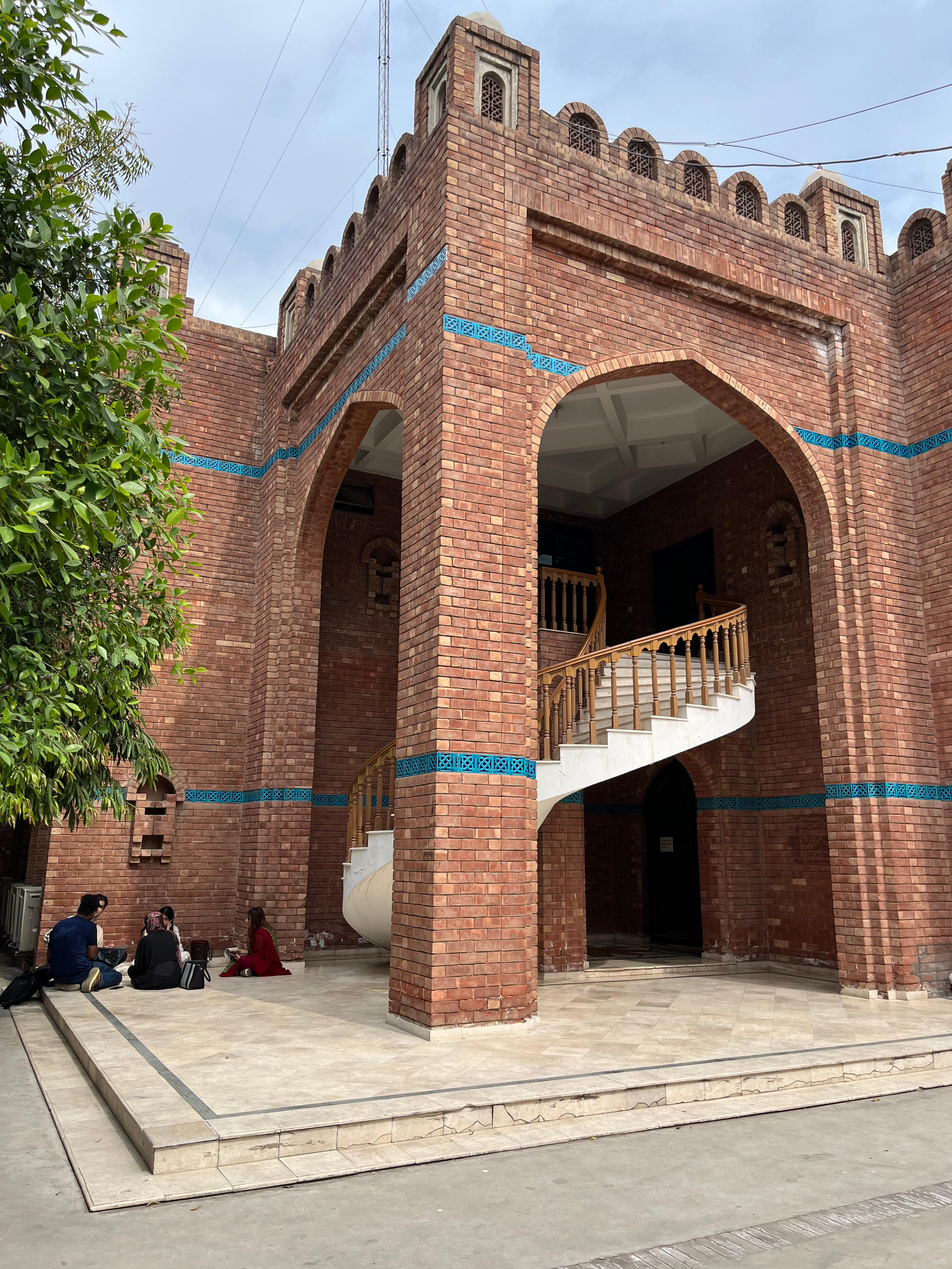Block E: (36, 21, 952, 1049)
